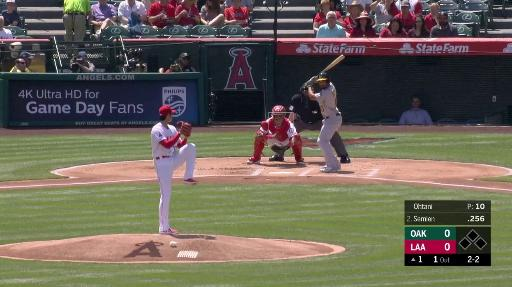pitcher: (150, 105, 203, 236)
